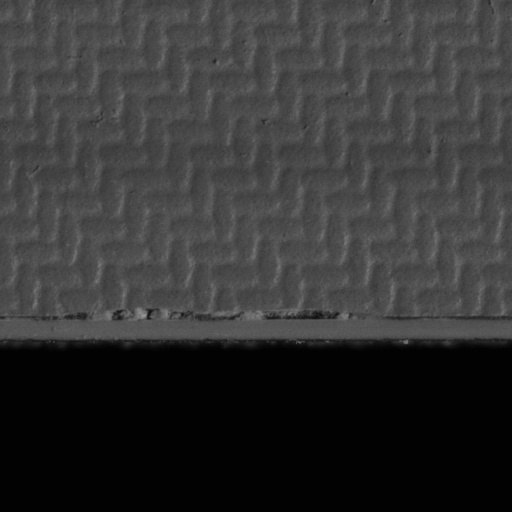bengque: (72, 305, 239, 323), (257, 309, 340, 322)
